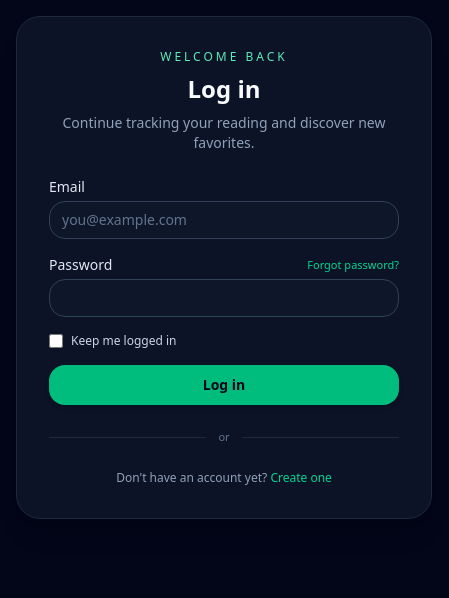
Test case: Login Component › shows server error for invalid credentials (401)
The image size is (449, 598).
Type "test@example.com" into the field labelled "Email" at coordinates (224, 220), box [49,201,399,239]
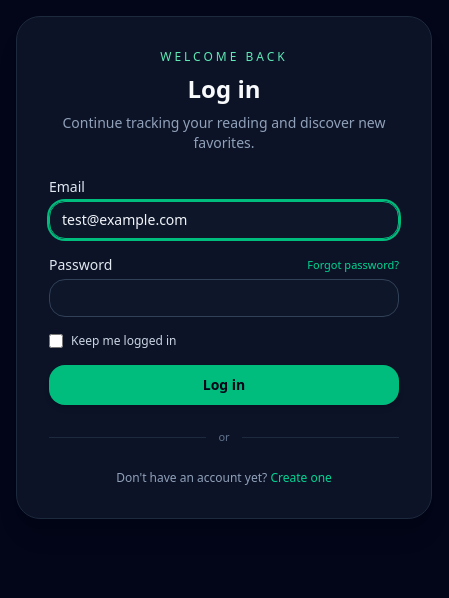
Type "wrongpassword" into the password field labelled "Password" at coordinates (224, 298), box [49,279,399,317]
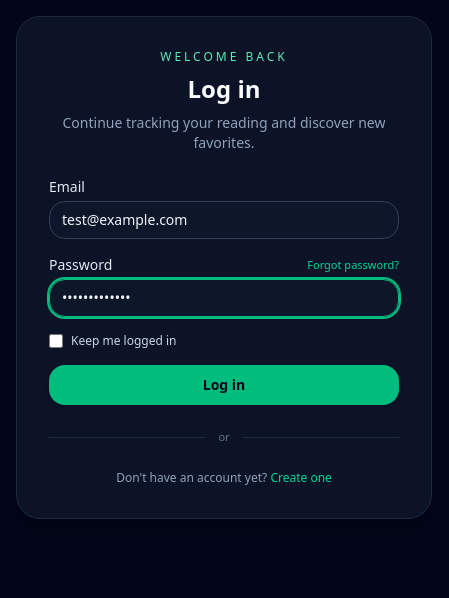
Click the button "Log in" at coordinates (224, 385), box [49,365,399,405]
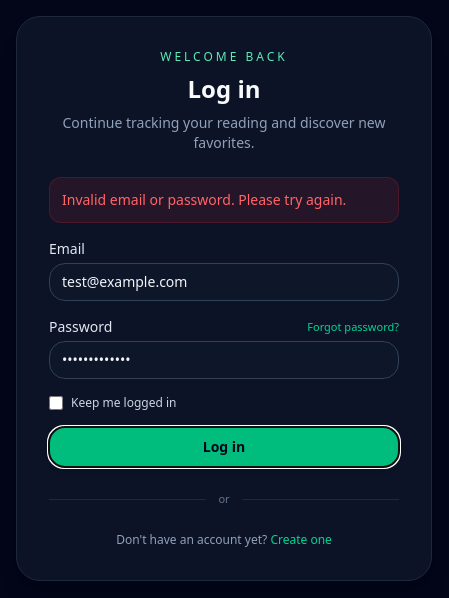
Check: the text "Invalid email or password. Please try again." is shown, box [62,190,386,210]
